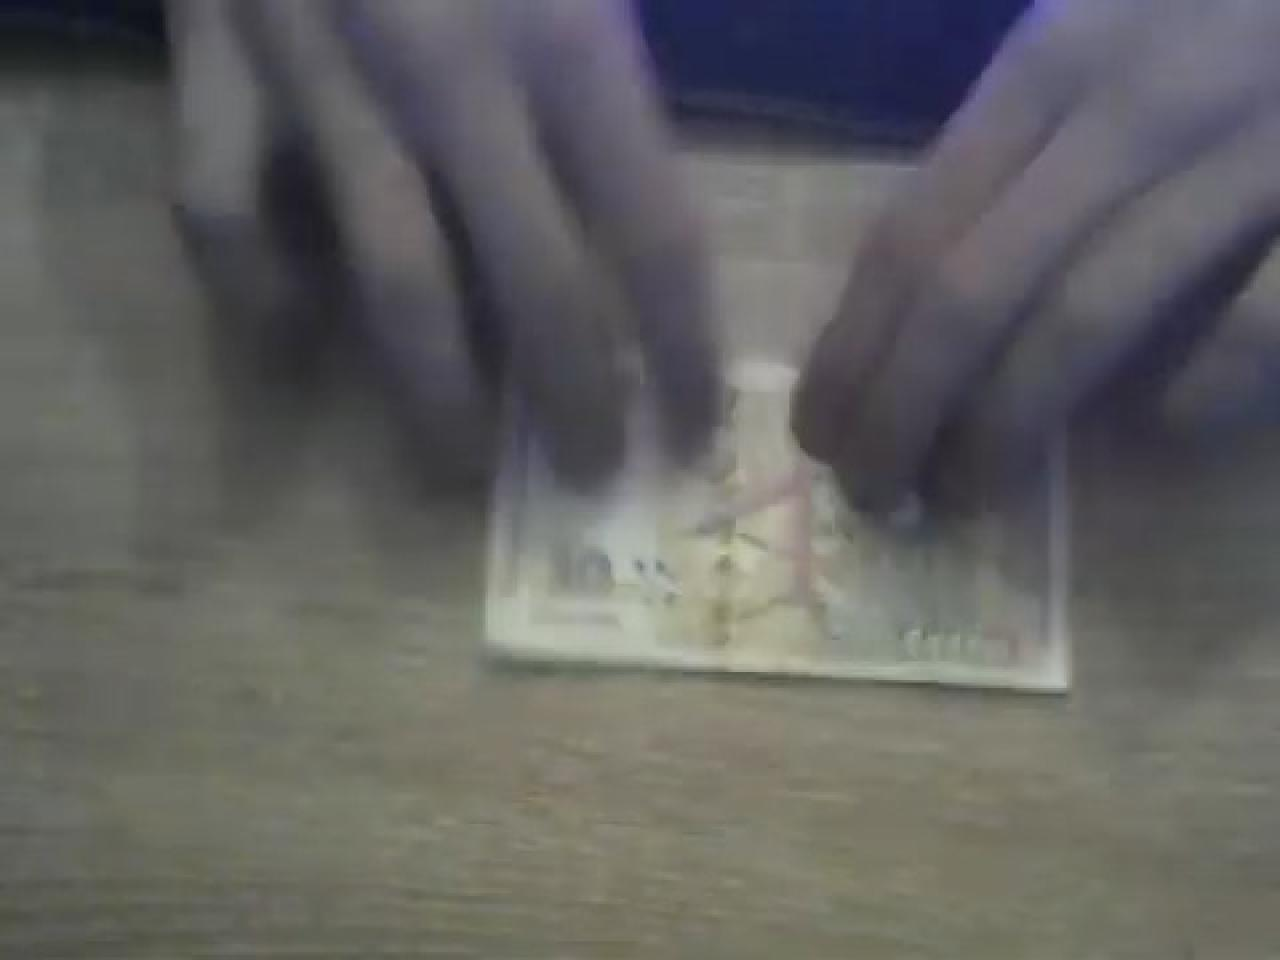10leva: (488, 363, 1058, 694)
